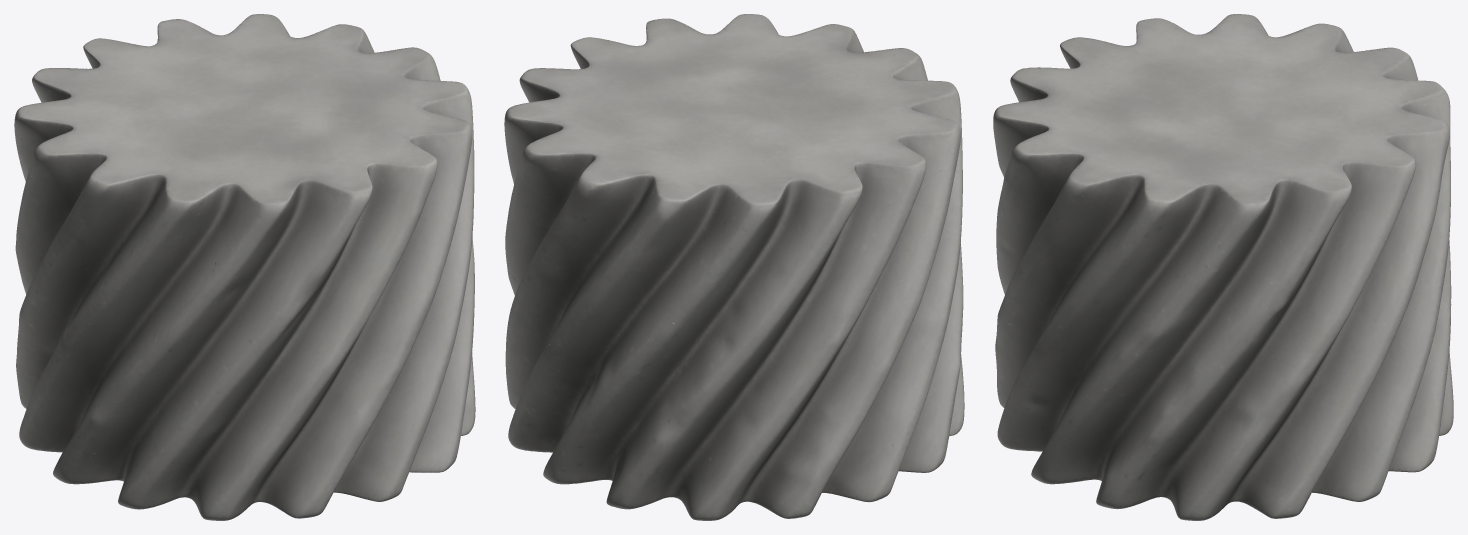
The model's file is 06_gear_symtrellis.glb.
The picture shows the model from 3 angles, left to right: view 1: azimuth 30°, elevation 25°; view 2: azimuth 150°, elevation 25°; view 3: azimuth 270°, elevation 25°; orthographic projection.
Parts seen in each view (by area): view 1: world; view 2: world; view 3: world.
Part boxes in pixels (box(x1,y1,x2,y2)): world: box(14, 14, 475, 520); world: box(504, 14, 964, 520); world: box(993, 14, 1453, 520).
Bounding box in the file's own units: 0.9901 × 0.7552 × 0.9917.
1 material, 1 textured.
